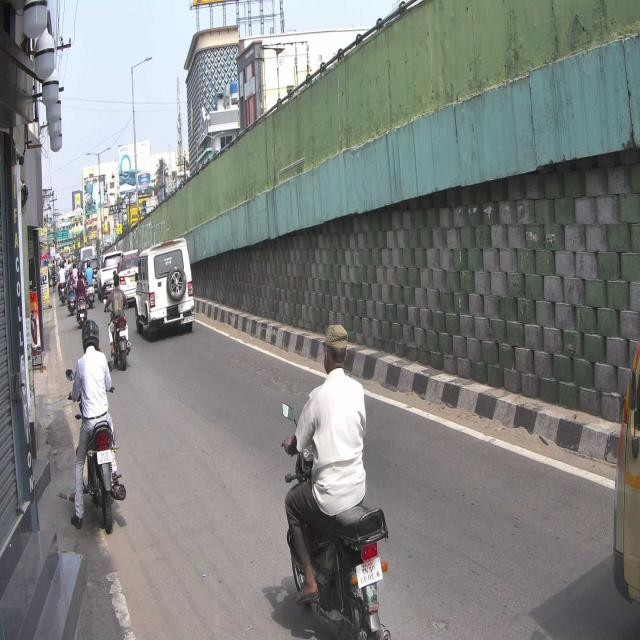single_rider: (280, 319, 395, 640), (67, 318, 129, 537)
